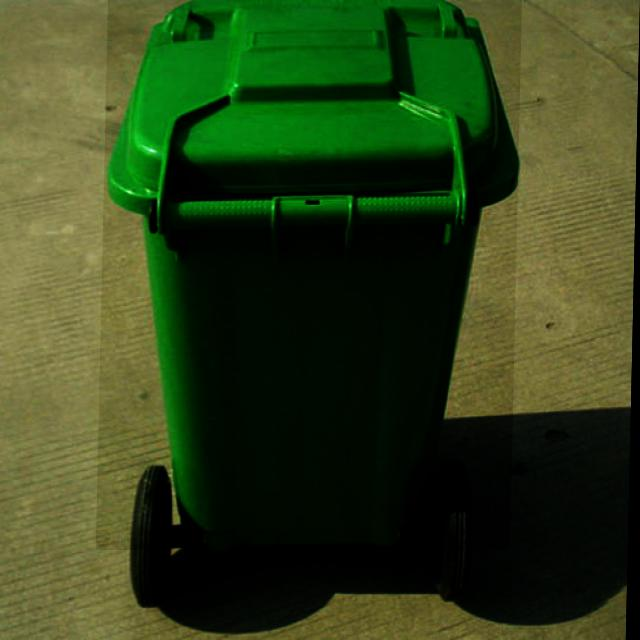garbage_bin: (98, 0, 522, 550)
